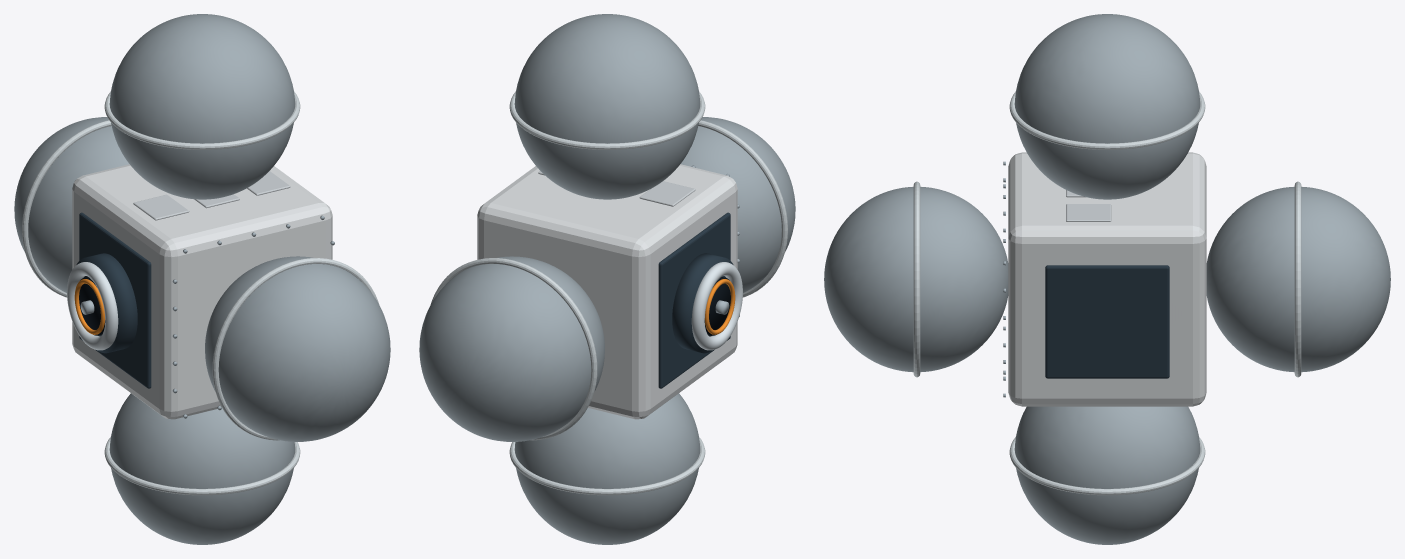
The model's file is ios_depot_sim.glb.
3 views of the same model, side by side, from view 1: azimuth 30°, elevation 25°; view 2: azimuth 150°, elevation 25°; view 3: azimuth 270°, elevation 25° (orthographic).
Parts seen in each view (by area): view 1: object 1, tank_restraint_band_04, object 33, tank_restraint_band_01, tank_restraint_band_02, tank_restraint_band_03; view 2: object 1, tank_restraint_band_03, tank_restraint_band_01, tank_restraint_band_02, tank_restraint_band_04, object 33; view 3: object 1, tank_restraint_band_02, tank_restraint_band_01, tank_restraint_band_03, tank_restraint_band_04, object 33.
Part boxes in pixels (x1,y1,x2,y2): object 1: [14, 14, 390, 544]; tank_restraint_band_04: [212, 258, 379, 440]; object 33: [133, 171, 290, 220]; tank_restraint_band_01: [104, 91, 300, 149]; tank_restraint_band_02: [104, 437, 300, 495]; tank_restraint_band_03: [22, 120, 111, 297]; object 1: [419, 14, 795, 544]; tank_restraint_band_03: [430, 258, 597, 440]; tank_restraint_band_01: [509, 91, 705, 149]; tank_restraint_band_02: [509, 437, 705, 495]; tank_restraint_band_04: [698, 120, 787, 297]; object 33: [538, 171, 695, 206]; object 1: [824, 14, 1390, 544]; tank_restraint_band_02: [1009, 437, 1205, 495]; tank_restraint_band_01: [1009, 91, 1205, 149]; tank_restraint_band_03: [1294, 181, 1301, 377]; tank_restraint_band_04: [913, 181, 920, 377]; object 33: [1066, 190, 1111, 221].
Size of the model in its own units: 2.54 by 6.01 by 6.01.
